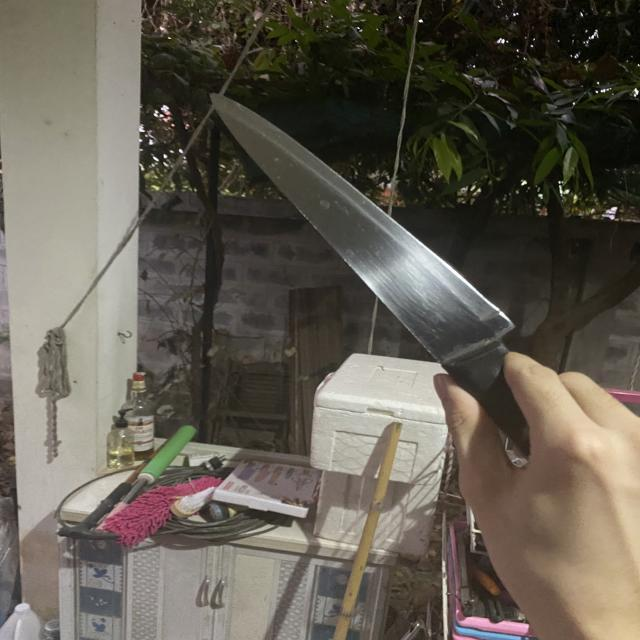faca: (186, 55, 640, 617)
